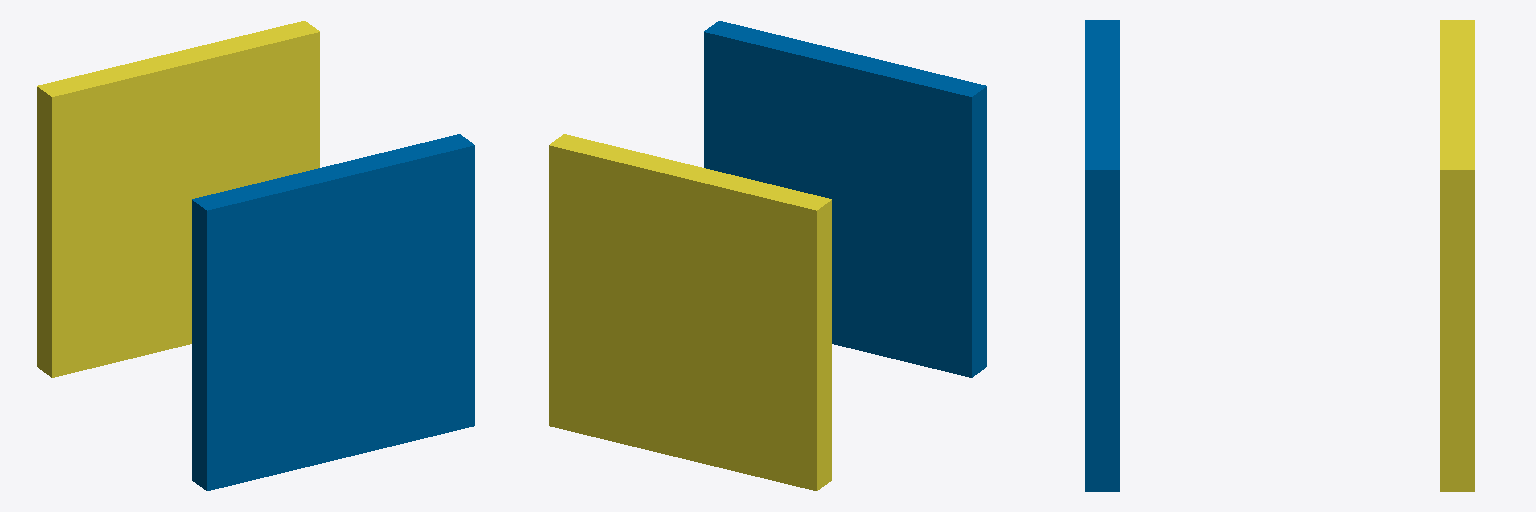
robot.urdf — convecdro:
<?xml version="1.0" encoding="utf-8"?>
<!-- =================================================================================== -->
<!-- |    This document was autogenerated by xacro from convecdro.xacro                | -->
<!-- |    EDITING THIS FILE BY HAND IS NOT RECOMMENDED                                 | -->
<!-- =================================================================================== -->
<robot name="convecdro">
  <!-- [m] -->
  <!-- [m] -->
  <!-- [m] -->
  <!-- [m] -->
  <!-- [m] -->
  <!-- [m] -->
  <!-- [m] -->
  <!-- [m] -->
  <!-- [m] -->
  <!-- [m] -->
  <!-- [m] -->
  <!-- [m] -->
  <link name="base_link"/>
  <joint name="base_joint" type="fixed">
    <origin rpy="0 0 0" xyz="0 0 0"/>
    <parent link="base_link"/>
    <child link="base_link_inertia"/>
  </joint>
  <link name="base_link_inertia">
    <inertial>
      <mass value="1.5"/>
      <!-- [kg] -->
      <origin xyz="0 0 0"/>
      <inertia ixx="0.0326125" ixy="0.0" ixz="0.0" iyy="0.0326125" iyz="0.0" izz="0.055225"/>
    </inertial>
    <visual>
      <origin rpy="0 0 0.5233333" xyz="0 0 -0.1"/>
      <geometry>
        <mesh filename="model://convecdro/meshes/chassis.stl" scale="1 1 1"/>
      </geometry>
    </visual>
    <collision>
      <origin rpy="0 0 0" xyz="0 0 0"/>
      <geometry>
        <box size="0.47 0.47 0.2"/>
        <!-- [m] [m] [m] -->
      </geometry>
    </collision>
  </link>
  <!-- attach multirotor_base_plugin to the base_link -->
  <gazebo>
    <plugin filename="libgazebo_multirotor_base_plugin.so" name="rosbag">
      <robotNamespace></robotNamespace>
      <linkName>base_link</linkName>
      <rotorVelocitySlowdownSim>10</rotorVelocitySlowdownSim>
    </plugin>
  </gazebo>
  <gazebo>
    <plugin filename="libgazebo_ros_control.so" name="gazebo_ros_control">
      <robotNamespace></robotNamespace>
    </plugin>
  </gazebo>
  <gazebo reference="base_link">
    <material>Gazebo/DarkGrey</material>
    <collision name="base_link_inertia_collision">
      <surface>
        <contact>
          <ode>
            <min_depth>0.001</min_depth>
            <max_vel>0.0</max_vel>
          </ode>
        </contact>
        <friction>
          <ode/>
        </friction>
      </surface>
    </collision>
  </gazebo>
  <joint name="convecdro_hood_joint" type="fixed">
    <origin rpy="0 0 0" xyz="0.0 0.0 0.032"/>
    <parent link="base_link"/>
    <child link="convecdro_hood_link"/>
  </joint>
  <link name="convecdro_hood_link">
    <inertial>
      <mass value="0.01"/>
      <!-- [kg] -->
      <origin xyz="0 0 0"/>
      <inertia ixx="5.24166666667e-05" ixy="0.0" ixz="0.0" iyy="0.000104166666667" iyz="0.0" izz="5.24166666667e-05"/>
    </inertial>
    <visual>
      <origin rpy="0 0 0" xyz="0 0 0"/>
      <geometry>
        <mesh filename="model://convecdro/meshes/hood.dae" scale="1.1 1.1 1.1"/>
      </geometry>
    </visual>
    <collision>
      <origin rpy="0 0 0" xyz="0 0 0"/>
      <geometry>
        <box size="0.25 0.25 0.02"/>
        <!-- [m] [m] [m] -->
      </geometry>
    </collision>
  </link>
  <joint name="convecdro_leg_left_joint" type="continuous">
    <origin rpy="0 0 0" xyz="0.0 0.1 -0.1"/>
    <axis xyz="1 0 0"/>
    <parent link="base_link"/>
    <child link="convecdro_leg_left_link"/>
    <limit effort="1000.0" lower="-0.48" upper="0.48" velocity="2.5"/>
    <dynamics damping="0.0" friction="0.0"/>
  </joint>
  <link name="convecdro_leg_left_link">
    <inertial>
      <mass value="0.2"/>
      <!-- [kg] -->
      <origin xyz="0 0 0"/>
      <inertia ixx="0.000673333333333" ixy="0.0" ixz="0.0" iyy="0.000673333333333" iyz="0.0" izz="0.00133333333333"/>
    </inertial>
    <visual>
      <origin rpy="0 0 0" xyz="0 0 0"/>
      <geometry>
        <box size="0.2 0.02 0.2"/>
        <!-- [m] [m] [m] -->
      </geometry>
    </visual>
    <collision>
      <origin rpy="0 0 0" xyz="0 0 0"/>
      <geometry>
        <box size="0.2 0.02 0.2"/>
        <!-- [m] [m] [m] -->
      </geometry>
      <surface>
        <friction>
          <ode>
            <mu>0.01</mu>
            <mu2>0.01</mu2>
          </ode>
        </friction>
      </surface>
    </collision>
  </link>
  <transmission name="trans_convecdro_leg_left">
    <type>transmission_interface/SimpleTransmission</type>
    <joint name="convecdro_leg_left_joint">
      <hardwareInterface>hardware_interface/EffortJointInterface</hardwareInterface>
    </joint>
    <actuator name="convecdro_leg_left">
      <hardwareInterface>hardware_interface/EffortJointInterface</hardwareInterface>
      <mechanicalReduction>1</mechanicalReduction>
    </actuator>
  </transmission>
  <joint name="convecdro_leg_right_joint" type="continuous">
    <origin rpy="0 0 0" xyz="0.0 -0.1 -0.1"/>
    <axis xyz="1 0 0"/>
    <parent link="base_link"/>
    <child link="convecdro_leg_right_link"/>
    <limit effort="1000.0" lower="-0.48" upper="0.48" velocity="2.5"/>
    <dynamics damping="0.0" friction="0.0"/>
  </joint>
  <link name="convecdro_leg_right_link">
    <inertial>
      <mass value="0.2"/>
      <!-- [kg] -->
      <origin xyz="0 0 0"/>
      <inertia ixx="0.000673333333333" ixy="0.0" ixz="0.0" iyy="0.000673333333333" iyz="0.0" izz="0.00133333333333"/>
    </inertial>
    <visual>
      <origin rpy="0 0 0" xyz="0 0 0"/>
      <geometry>
        <box size="0.2 0.02 0.2"/>
        <!-- [m] [m] [m] -->
      </geometry>
    </visual>
    <collision>
      <origin rpy="0 0 0" xyz="0 0 0"/>
      <geometry>
        <box size="0.2 0.02 0.2"/>
        <!-- [m] [m] [m] -->
      </geometry>
      <surface>
        <friction>
          <ode>
            <mu>0.01</mu>
            <mu2>0.01</mu2>
          </ode>
        </friction>
      </surface>
    </collision>
  </link>
  <transmission name="trans_convecdro_leg_right">
    <type>transmission_interface/SimpleTransmission</type>
    <joint name="convecdro_leg_right_joint">
      <hardwareInterface>hardware_interface/EffortJointInterface</hardwareInterface>
    </joint>
    <actuator name="convecdro_leg_right">
      <hardwareInterface>hardware_interface/EffortJointInterface</hardwareInterface>
      <mechanicalReduction>1</mechanicalReduction>
    </actuator>
  </transmission>
  <joint name="rotor_0_joint" type="continuous">
    <origin rpy="0 0 0" xyz="0.0 -0.44 0.023"/>
    <axis xyz="0 0 1"/>
    <parent link="base_link"/>
    <child link="rotor_0"/>
  </joint>
  <link name="rotor_0">
    <inertial>
      <mass value="0.005"/>
      <!-- [kg] -->
      <inertia ixx="9.75e-07" ixy="0.0" ixz="0.0" iyy="0.000273104166667" iyz="0.0" izz="0.000274004166667"/>
    </inertial>
    <visual>
      <geometry>
        <!-- <cylinder length="0.005" radius="${radius_rotor}"/> -->
        <!-- [m] -->
        <!-- <mesh filename="package://rotors_description/meshes/propeller_${direction}.dae" -->
        <mesh filename="model://convecdro/meshes/prop_cw.dae" scale="1 1 1"/>
        <!-- <box size="${2*radius_rotor} 0.01 0.005"/> -->
      </geometry>
    </visual>
    <collision>
      <geometry>
        <cylinder length="0.005" radius="0.128"/>
        <!-- [m] -->
      </geometry>
    </collision>
  </link>
  <gazebo>
    <plugin filename="libgazebo_motor_model.so" name="motor_model_rotor_0">
      <robotNamespace></robotNamespace>
      <jointName>rotor_0_joint</jointName>
      <linkName>rotor_0</linkName>
      <turningDirection>cw</turningDirection>
      <timeConstantUp>0.0125</timeConstantUp>
      <timeConstantDown>0.025</timeConstantDown>
      <maxRotVelocity>1100</maxRotVelocity>
      <motorConstant>8.54858e-06</motorConstant>
      <momentConstant>0.06</momentConstant>
      <commandSubTopic>/gazebo/command/motor_speed</commandSubTopic>
      <motorNumber>0</motorNumber>
      <rotorDragCoefficient>0.000806428</rotorDragCoefficient>
      <rollingMomentCoefficient>1e-06</rollingMomentCoefficient>
      <motorSpeedPubTopic>/motor_speed/0</motorSpeedPubTopic>
      <rotorVelocitySlowdownSim>10</rotorVelocitySlowdownSim>
    </plugin>
  </gazebo>
  <gazebo reference="rotor_0">
    <material>Gazebo/Blue</material>
  </gazebo>
  <joint name="rotor_1_joint" type="continuous">
    <origin rpy="0 0 0" xyz="0.0 0.44 0.023"/>
    <axis xyz="0 0 1"/>
    <parent link="base_link"/>
    <child link="rotor_1"/>
  </joint>
  <link name="rotor_1">
    <inertial>
      <mass value="0.005"/>
      <!-- [kg] -->
      <inertia ixx="9.75e-07" ixy="0.0" ixz="0.0" iyy="0.000273104166667" iyz="0.0" izz="0.000274004166667"/>
    </inertial>
    <visual>
      <geometry>
        <!-- <cylinder length="0.005" radius="${radius_rotor}"/> -->
        <!-- [m] -->
        <!-- <mesh filename="package://rotors_description/meshes/propeller_${direction}.dae" -->
        <mesh filename="model://convecdro/meshes/prop_ccw.dae" scale="1 1 1"/>
        <!-- <box size="${2*radius_rotor} 0.01 0.005"/> -->
      </geometry>
    </visual>
    <collision>
      <geometry>
        <cylinder length="0.005" radius="0.128"/>
        <!-- [m] -->
      </geometry>
    </collision>
  </link>
  <gazebo>
    <plugin filename="libgazebo_motor_model.so" name="motor_model_rotor_1">
      <robotNamespace></robotNamespace>
      <jointName>rotor_1_joint</jointName>
      <linkName>rotor_1</linkName>
      <turningDirection>ccw</turningDirection>
      <timeConstantUp>0.0125</timeConstantUp>
      <timeConstantDown>0.025</timeConstantDown>
      <maxRotVelocity>1100</maxRotVelocity>
      <motorConstant>8.54858e-06</motorConstant>
      <momentConstant>0.06</momentConstant>
      <commandSubTopic>/gazebo/command/motor_speed</commandSubTopic>
      <motorNumber>1</motorNumber>
      <rotorDragCoefficient>0.000806428</rotorDragCoefficient>
      <rollingMomentCoefficient>1e-06</rollingMomentCoefficient>
      <motorSpeedPubTopic>/motor_speed/1</motorSpeedPubTopic>
      <rotorVelocitySlowdownSim>10</rotorVelocitySlowdownSim>
    </plugin>
  </gazebo>
  <gazebo reference="rotor_1">
    <material>Gazebo/DarkGrey</material>
  </gazebo>
  <joint name="rotor_2_joint" type="continuous">
    <origin rpy="0 0 0" xyz="0.381051177665 0.22 0.023"/>
    <axis xyz="0 0 1"/>
    <parent link="base_link"/>
    <child link="rotor_2"/>
  </joint>
  <link name="rotor_2">
    <inertial>
      <mass value="0.005"/>
      <!-- [kg] -->
      <inertia ixx="9.75e-07" ixy="0.0" ixz="0.0" iyy="0.000273104166667" iyz="0.0" izz="0.000274004166667"/>
    </inertial>
    <visual>
      <geometry>
        <!-- <cylinder length="0.005" radius="${radius_rotor}"/> -->
        <!-- [m] -->
        <!-- <mesh filename="package://rotors_description/meshes/propeller_${direction}.dae" -->
        <mesh filename="model://convecdro/meshes/prop_cw.dae" scale="1 1 1"/>
        <!-- <box size="${2*radius_rotor} 0.01 0.005"/> -->
      </geometry>
    </visual>
    <collision>
      <geometry>
        <cylinder length="0.005" radius="0.128"/>
        <!-- [m] -->
      </geometry>
    </collision>
  </link>
  <gazebo>
    <plugin filename="libgazebo_motor_model.so" name="motor_model_rotor_2">
      <robotNamespace></robotNamespace>
      <jointName>rotor_2_joint</jointName>
      <linkName>rotor_2</linkName>
      <turningDirection>cw</turningDirection>
      <timeConstantUp>0.0125</timeConstantUp>
      <timeConstantDown>0.025</timeConstantDown>
      <maxRotVelocity>1100</maxRotVelocity>
      <motorConstant>8.54858e-06</motorConstant>
      <momentConstant>0.06</momentConstant>
      <commandSubTopic>/gazebo/command/motor_speed</commandSubTopic>
      <motorNumber>2</motorNumber>
      <rotorDragCoefficient>0.000806428</rotorDragCoefficient>
      <rollingMomentCoefficient>1e-06</rollingMomentCoefficient>
      <motorSpeedPubTopic>/motor_speed/2</motorSpeedPubTopic>
      <rotorVelocitySlowdownSim>10</rotorVelocitySlowdownSim>
    </plugin>
  </gazebo>
  <gazebo reference="rotor_2">
    <material>Gazebo/Blue</material>
  </gazebo>
  <joint name="rotor_3_joint" type="continuous">
    <origin rpy="0 0 0" xyz="-0.381051177665 -0.22 0.023"/>
    <axis xyz="0 0 1"/>
    <parent link="base_link"/>
    <child link="rotor_3"/>
  </joint>
  <link name="rotor_3">
    <inertial>
      <mass value="0.005"/>
      <!-- [kg] -->
      <inertia ixx="9.75e-07" ixy="0.0" ixz="0.0" iyy="0.000273104166667" iyz="0.0" izz="0.000274004166667"/>
    </inertial>
    <visual>
      <geometry>
        <!-- <cylinder length="0.005" radius="${radius_rotor}"/> -->
        <!-- [m] -->
        <!-- <mesh filename="package://rotors_description/meshes/propeller_${direction}.dae" -->
        <mesh filename="model://convecdro/meshes/prop_ccw.dae" scale="1 1 1"/>
        <!-- <box size="${2*radius_rotor} 0.01 0.005"/> -->
      </geometry>
    </visual>
    <collision>
      <geometry>
        <cylinder length="0.005" radius="0.128"/>
        <!-- [m] -->
      </geometry>
    </collision>
  </link>
  <gazebo>
    <plugin filename="libgazebo_motor_model.so" name="motor_model_rotor_3">
      <robotNamespace></robotNamespace>
      <jointName>rotor_3_joint</jointName>
      <linkName>rotor_3</linkName>
      <turningDirection>ccw</turningDirection>
      <timeConstantUp>0.0125</timeConstantUp>
      <timeConstantDown>0.025</timeConstantDown>
      <maxRotVelocity>1100</maxRotVelocity>
      <motorConstant>8.54858e-06</motorConstant>
      <momentConstant>0.06</momentConstant>
      <commandSubTopic>/gazebo/command/motor_speed</commandSubTopic>
      <motorNumber>3</motorNumber>
      <rotorDragCoefficient>0.000806428</rotorDragCoefficient>
      <rollingMomentCoefficient>1e-06</rollingMomentCoefficient>
      <motorSpeedPubTopic>/motor_speed/3</motorSpeedPubTopic>
      <rotorVelocitySlowdownSim>10</rotorVelocitySlowdownSim>
    </plugin>
  </gazebo>
  <gazebo reference="rotor_3">
    <material>Gazebo/DarkGrey</material>
  </gazebo>
  <joint name="rotor_4_joint" type="continuous">
    <origin rpy="0 0 0" xyz="0.381051177665 -0.22 0.023"/>
    <axis xyz="0 0 1"/>
    <parent link="base_link"/>
    <child link="rotor_4"/>
  </joint>
  <link name="rotor_4">
    <inertial>
      <mass value="0.005"/>
      <!-- [kg] -->
      <inertia ixx="9.75e-07" ixy="0.0" ixz="0.0" iyy="0.000273104166667" iyz="0.0" izz="0.000274004166667"/>
    </inertial>
    <visual>
      <geometry>
        <!-- <cylinder length="0.005" radius="${radius_rotor}"/> -->
        <!-- [m] -->
        <!-- <mesh filename="package://rotors_description/meshes/propeller_${direction}.dae" -->
        <mesh filename="model://convecdro/meshes/prop_ccw.dae" scale="1 1 1"/>
        <!-- <box size="${2*radius_rotor} 0.01 0.005"/> -->
      </geometry>
    </visual>
    <collision>
      <geometry>
        <cylinder length="0.005" radius="0.128"/>
        <!-- [m] -->
      </geometry>
    </collision>
  </link>
  <gazebo>
    <plugin filename="libgazebo_motor_model.so" name="motor_model_rotor_4">
      <robotNamespace></robotNamespace>
      <jointName>rotor_4_joint</jointName>
      <linkName>rotor_4</linkName>
      <turningDirection>ccw</turningDirection>
      <timeConstantUp>0.0125</timeConstantUp>
      <timeConstantDown>0.025</timeConstantDown>
      <maxRotVelocity>1100</maxRotVelocity>
      <motorConstant>8.54858e-06</motorConstant>
      <momentConstant>0.06</momentConstant>
      <commandSubTopic>/gazebo/command/motor_speed</commandSubTopic>
      <motorNumber>4</motorNumber>
      <rotorDragCoefficient>0.000806428</rotorDragCoefficient>
      <rollingMomentCoefficient>1e-06</rollingMomentCoefficient>
      <motorSpeedPubTopic>/motor_speed/4</motorSpeedPubTopic>
      <rotorVelocitySlowdownSim>10</rotorVelocitySlowdownSim>
    </plugin>
  </gazebo>
  <gazebo reference="rotor_4">
    <material>Gazebo/DarkGrey</material>
  </gazebo>
  <joint name="rotor_5_joint" type="continuous">
    <origin rpy="0 0 0" xyz="-0.381051177665 0.22 0.023"/>
    <axis xyz="0 0 1"/>
    <parent link="base_link"/>
    <child link="rotor_5"/>
  </joint>
  <link name="rotor_5">
    <inertial>
      <mass value="0.005"/>
      <!-- [kg] -->
      <inertia ixx="9.75e-07" ixy="0.0" ixz="0.0" iyy="0.000273104166667" iyz="0.0" izz="0.000274004166667"/>
    </inertial>
    <visual>
      <geometry>
        <!-- <cylinder length="0.005" radius="${radius_rotor}"/> -->
        <!-- [m] -->
        <!-- <mesh filename="package://rotors_description/meshes/propeller_${direction}.dae" -->
        <mesh filename="model://convecdro/meshes/prop_cw.dae" scale="1 1 1"/>
        <!-- <box size="${2*radius_rotor} 0.01 0.005"/> -->
      </geometry>
    </visual>
    <collision>
      <geometry>
        <cylinder length="0.005" radius="0.128"/>
        <!-- [m] -->
      </geometry>
    </collision>
  </link>
  <gazebo>
    <plugin filename="libgazebo_motor_model.so" name="motor_model_rotor_5">
      <robotNamespace></robotNamespace>
      <jointName>rotor_5_joint</jointName>
      <linkName>rotor_5</linkName>
      <turningDirection>cw</turningDirection>
      <timeConstantUp>0.0125</timeConstantUp>
      <timeConstantDown>0.025</timeConstantDown>
      <maxRotVelocity>1100</maxRotVelocity>
      <motorConstant>8.54858e-06</motorConstant>
      <momentConstant>0.06</momentConstant>
      <commandSubTopic>/gazebo/command/motor_speed</commandSubTopic>
      <motorNumber>5</motorNumber>
      <rotorDragCoefficient>0.000806428</rotorDragCoefficient>
      <rollingMomentCoefficient>1e-06</rollingMomentCoefficient>
      <motorSpeedPubTopic>/motor_speed/5</motorSpeedPubTopic>
      <rotorVelocitySlowdownSim>10</rotorVelocitySlowdownSim>
    </plugin>
  </gazebo>
  <gazebo reference="rotor_5">
    <material>Gazebo/Blue</material>
  </gazebo>
</robot>

--- What the picture shows (computed from the rendered views, not written in the file) ---
The picture shows the robot from 3 angles, left to right: view 1: azimuth 30°, elevation 25°; view 2: azimuth 150°, elevation 25°; view 3: azimuth 270°, elevation 25°; orthographic projection.
Model convecdro with 11 links and 10 joints (8 continuous, 2 fixed), rooted at base_link, posed every joint at zero.
Visible links, largest first — view 1: convecdro_leg_right_link, convecdro_leg_left_link; view 2: convecdro_leg_left_link, convecdro_leg_right_link; view 3: convecdro_leg_left_link, convecdro_leg_right_link.
Link boxes in pixels (x1,y1,x2,y2): convecdro_leg_right_link: [192, 134, 474, 490]; convecdro_leg_left_link: [37, 21, 319, 377]; convecdro_leg_left_link: [549, 134, 831, 490]; convecdro_leg_right_link: [704, 21, 986, 377]; convecdro_leg_left_link: [1440, 20, 1474, 491]; convecdro_leg_right_link: [1085, 20, 1119, 491].
Bounding box of the posed robot: 0.2 × 0.22 × 0.2 m (x, y, z).
0 mesh visuals loaded from 4 distinct referenced files (none loaded); not drawn: 8 (reference not matched to a file when rendering).